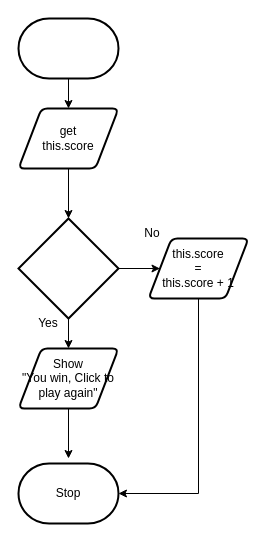
This 266x541 diagram has some shape labels left out. The centre of each missing label's shape, as x and y in pixels:
"if this.score >= 5" goes at [68,268].
"Start" goes at [68,48].
